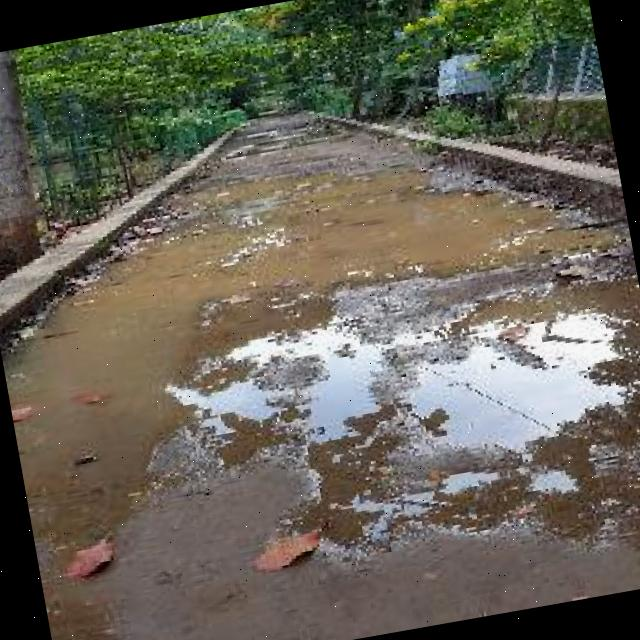stagnation: (193, 248, 640, 601), (191, 148, 430, 306)
